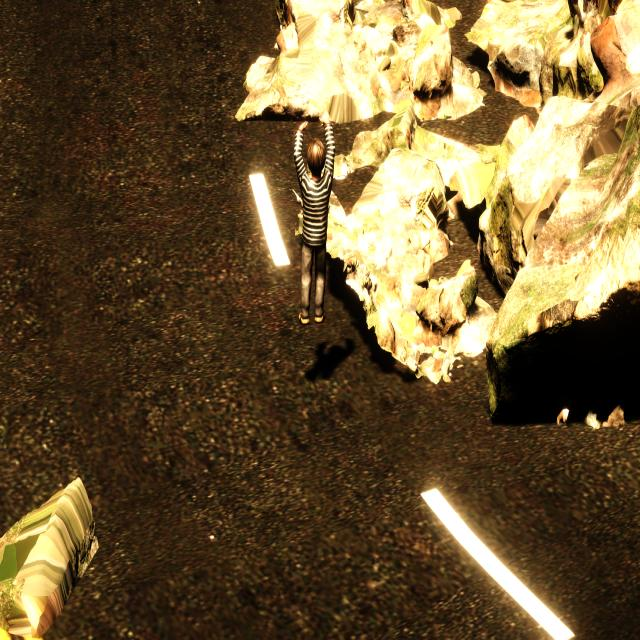Human: (286, 111, 338, 342)
